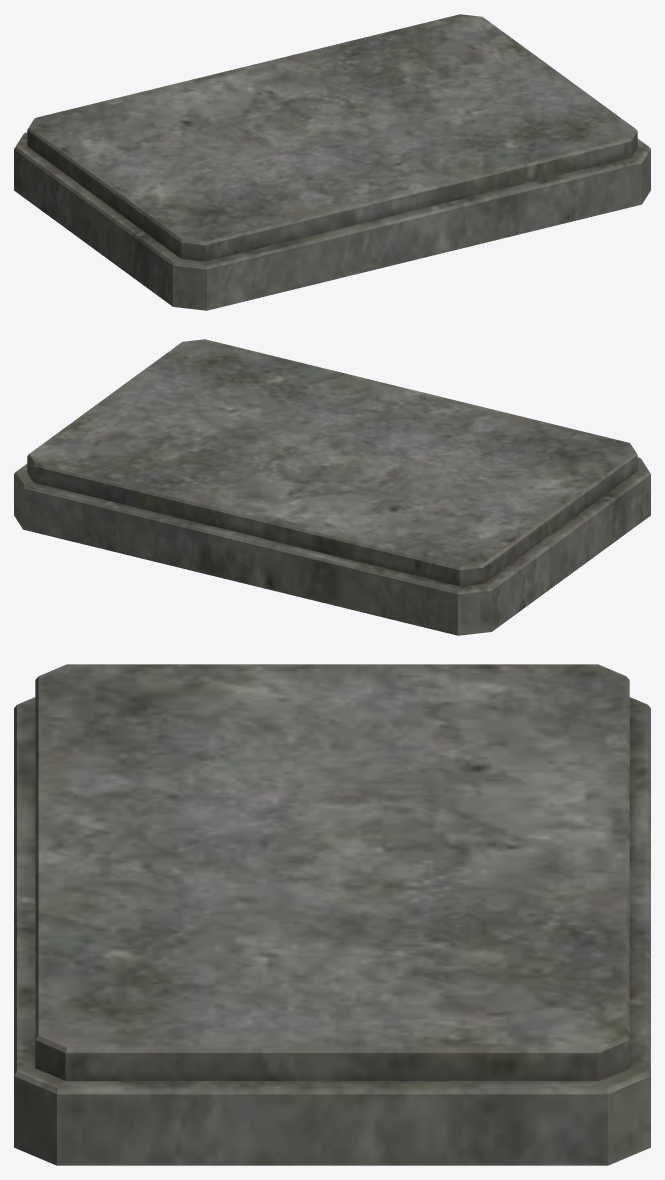
File: SM_StatueBase_4cf900.glb
The picture shows the model from 3 angles, top to bottom: view 1: azimuth 30°, elevation 25°; view 2: azimuth 150°, elevation 25°; view 3: azimuth 270°, elevation 25°; orthographic projection. The views are drawn at different scales.
Size of the model in its own units: 3.9 by 0.485 by 2.6.
Materials: 1 (1 with a texture image).
